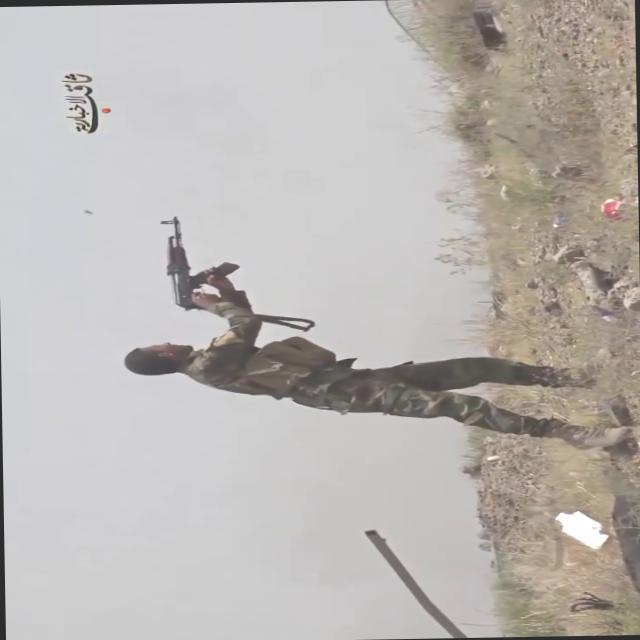long weapon: (154, 195, 260, 322)
